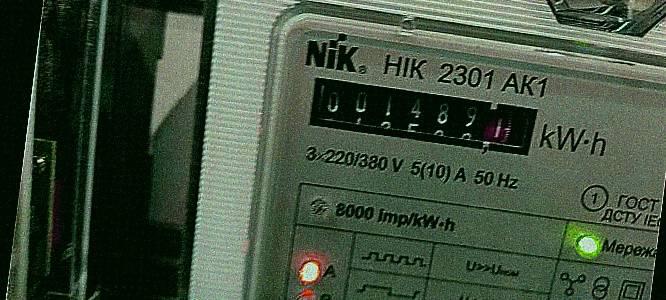0: (351, 87, 370, 113), (324, 87, 342, 114)
1: (379, 89, 397, 120), (490, 109, 505, 140)
4: (406, 94, 425, 121)
8: (432, 97, 452, 126)
9: (461, 102, 479, 129)
screen: (291, 64, 554, 171)
